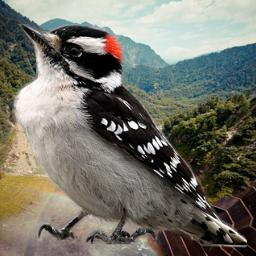Woodpecker: (12, 24, 247, 248)
